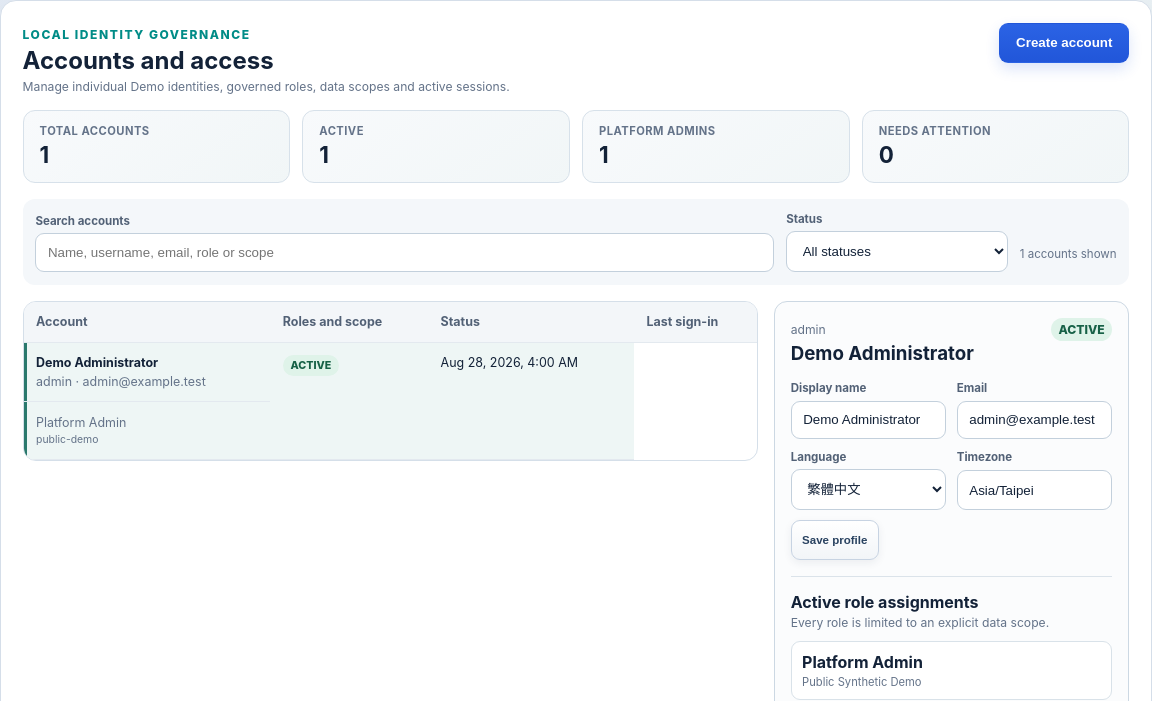
Test: IdentityManagementWorkspace › creates an account with a governed role and audit reason
Click the button "Create account" at (1064, 43), box x1=999 y1=23 x2=1129 y2=63
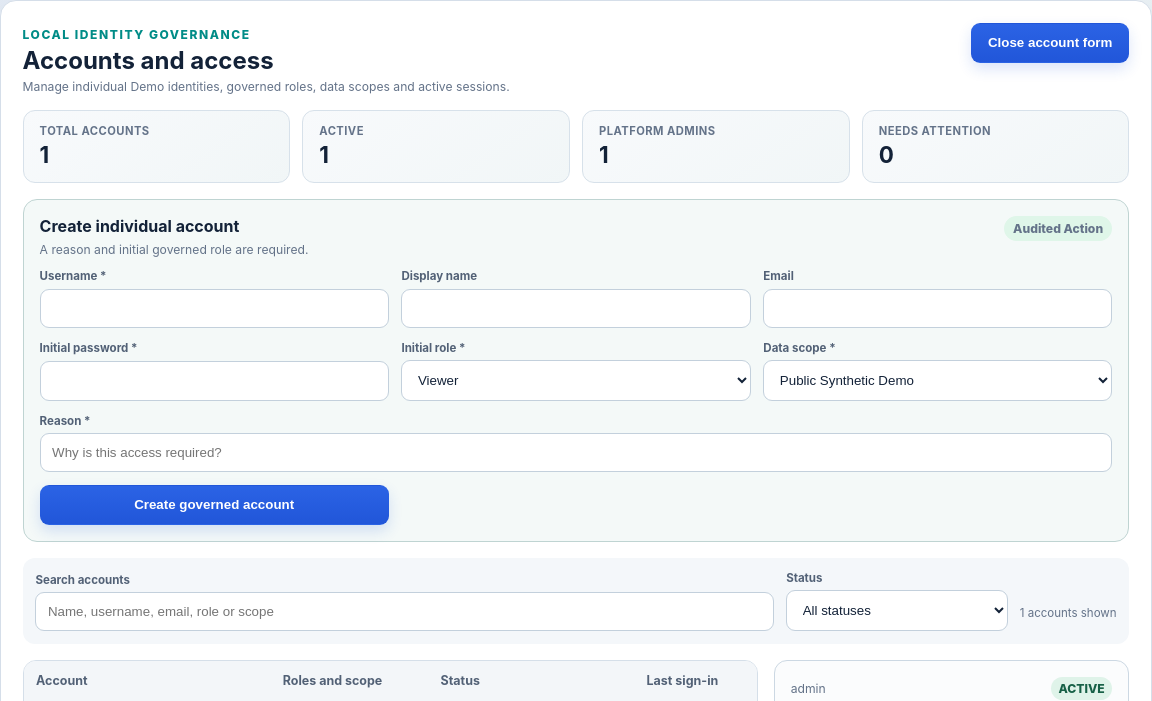
Type "new-engineer" into the field labelled "Username *" at (214, 308), box x1=40 y1=289 x2=389 y2=328
Type "New Engineer" into the field labelled "Display name" at (576, 308), box x1=402 y1=289 x2=751 y2=328
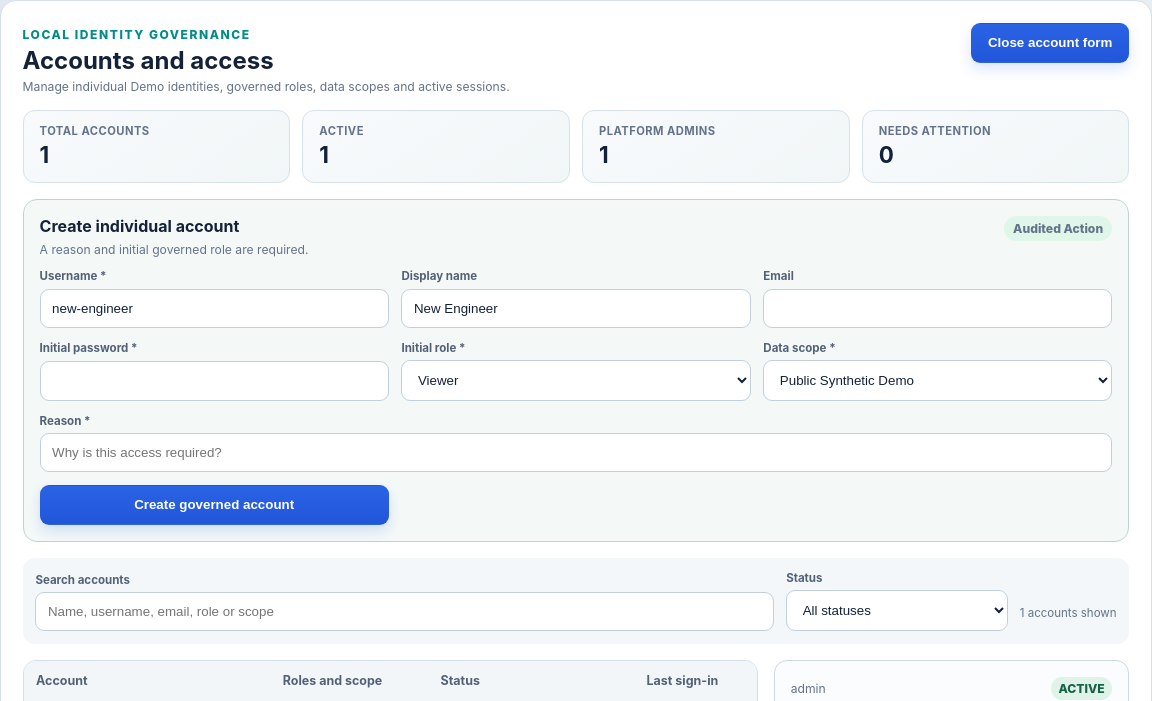
Type "new@example.test" into the field labelled "Email" at (938, 308), box x1=763 y1=289 x2=1112 y2=328
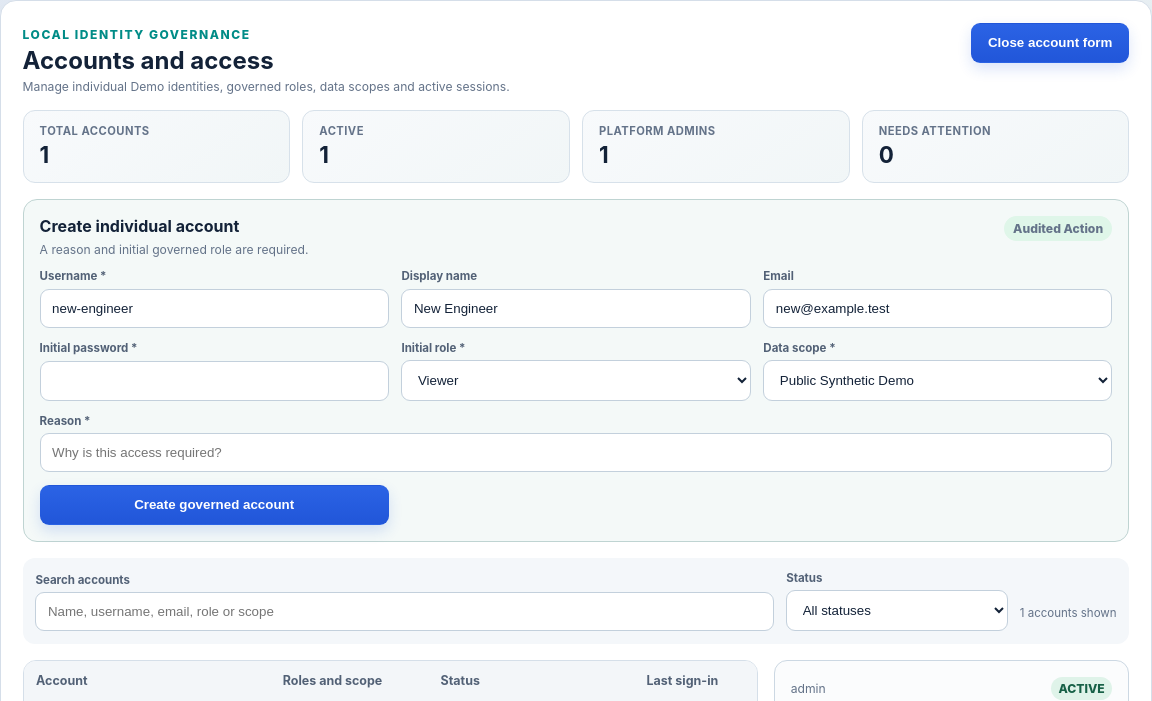
Type "Strong-Demo-Password-2026!" into the password field labelled "Initial password *" at (214, 381), box x1=40 y1=361 x2=389 y2=401
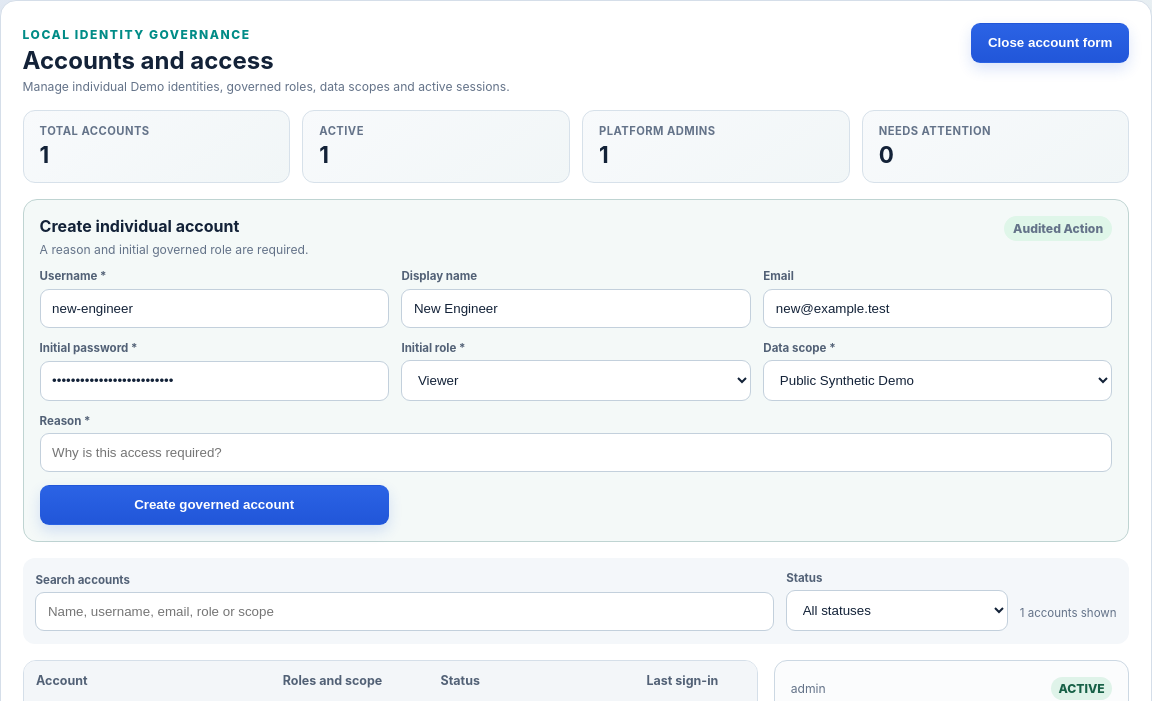
Type "New Demo operator" into the field labelled "Reason *" at (576, 453), box x1=40 y1=433 x2=1112 y2=472
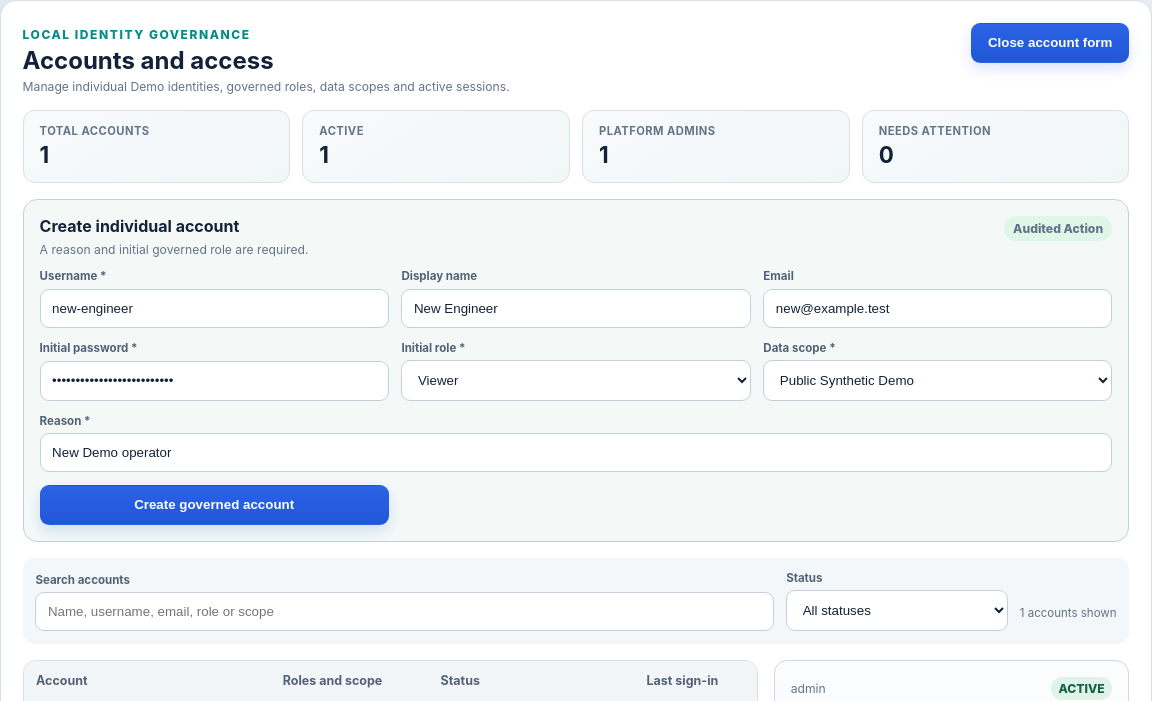
Submit the form with class "identity-create-form", box x1=23 y1=199 x2=1129 y2=542
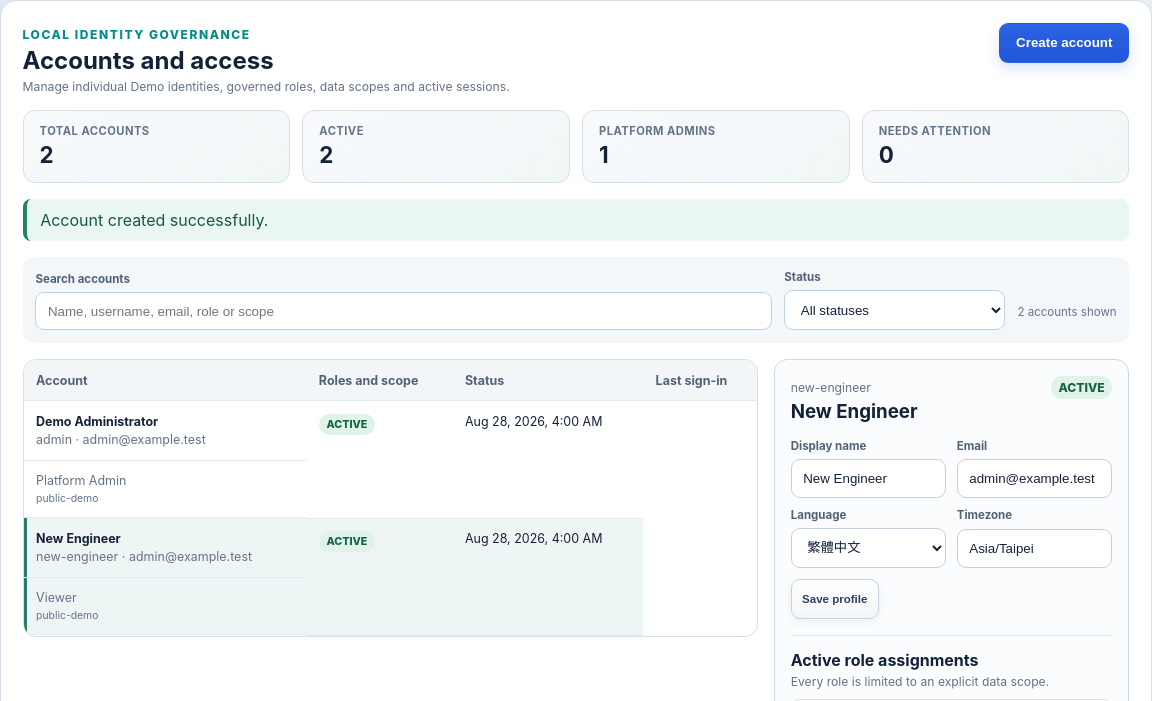
Now the text "Account created successfully." is shown, box x1=23 y1=199 x2=1129 y2=241
Now the text "New Engineer" is shown, box x1=36 y1=531 x2=121 y2=546
